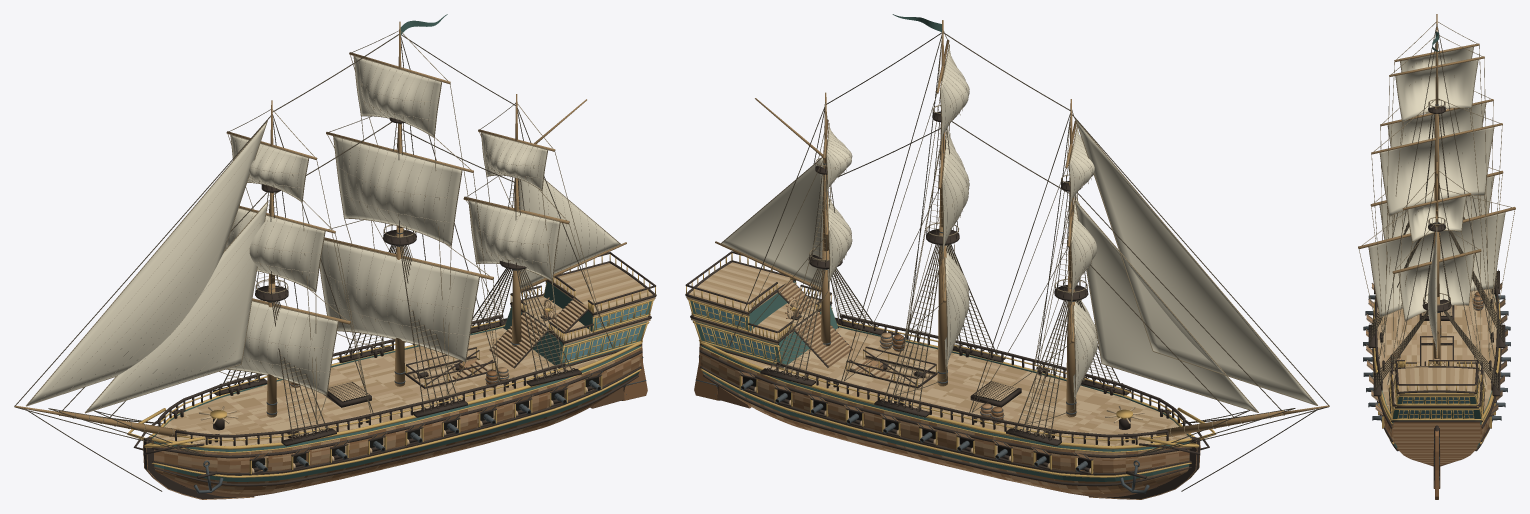
The model's file is reference_frigate.fbx.
3 renders of one model, left to right at view 1: azimuth 30°, elevation 25°; view 2: azimuth 150°, elevation 25°; view 3: azimuth 270°, elevation 25°, orthographic. The views are drawn at different scales.
Parts seen in each view (by area): view 1: Frigate_Flying_Jib, Frigate_Hull_Planking, Frigate_Main_Deck_Planks, Frigate_Mainmast_Sail_1, Frigate_Inner_Jib, Frigate_Mainmast_Sail_2, Frigate_Wales_And_Gold_Trim, Frigate_Foremast_Sail_1, Frigate_Bulwarks_And_Railings, Frigate_Mizzenmast_Sail_1, Frigate_Mainmast_Sail_3, Frigate_Mainmast_Shrouds_Ratlines_And_Running_Rig (+29 smaller); view 2: Frigate_Flying_Jib, Frigate_Main_Deck_Planks, Frigate_Hull_Planking, Frigate_Inner_Jib, Frigate_Wales_And_Gold_Trim, Frigate_Mizzen_Gaff_Sail, Frigate_Bulwarks_And_Railings, Frigate_Mainmast_Shrouds_Ratlines_And_Running_Rig, Frigate_Foremast_Shrouds_Ratlines_And_Running_Rig, Frigate_Mizzenmast_Shrouds_Ratlines_And_Running_Rig, Frigate_Stepped_Cambered_Quarterdecks, Frigate_Stern_Gallery_Windows_And_Mouldings (+22 smaller); view 3: Frigate_Mainmast_Sail_2, Frigate_Mainmast_Sail_1, Frigate_Main_Deck_Planks, Frigate_Mainmast_Shrouds_Ratlines_And_Running_Rig, Frigate_Stern_Gallery_Windows_And_Mouldings, Frigate_Mainmast_Sail_3, Frigate_Mizzenmast_Shrouds_Ratlines_And_Running_Rig, Frigate_Stern_Transom_Planking, Frigate_Mizzenmast_Sail_1, Frigate_Mainmast_Spars_And_Tops, Frigate_Foremast_Sail_2, Frigate_Stepped_Cambered_Quarterdecks (+23 smaller).
Part boxes in pixels (<box>): Frigate_Flying_Jib: <box>27,123,266,405</box>; Frigate_Hull_Planking: <box>152,326,641,497</box>; Frigate_Main_Deck_Planks: <box>153,328,614,446</box>; Frigate_Mainmast_Sail_1: <box>320,240,478,361</box>; Frigate_Inner_Jib: <box>86,202,267,412</box>; Frigate_Mainmast_Sail_2: <box>334,136,461,245</box>; Frigate_Wales_And_Gold_Trim: <box>149,325,642,486</box>; Frigate_Foremast_Sail_1: <box>228,301,337,394</box>; Frigate_Bulwarks_And_Railings: <box>158,252,655,445</box>; Frigate_Mizzenmast_Sail_1: <box>469,201,559,280</box>; Frigate_Mainmast_Sail_3: <box>354,56,441,136</box>; Frigate_Mainmast_Shrouds_Ratlines_And_Running_Rig: <box>327,30,501,412</box>; Frigate_Flying_Jib: <box>1077,122,1316,404</box>; Frigate_Main_Deck_Planks: <box>728,327,1190,446</box>; Frigate_Hull_Planking: <box>700,325,1190,497</box>; Frigate_Inner_Jib: <box>1076,202,1257,411</box>; Frigate_Wales_And_Gold_Trim: <box>699,324,1194,486</box>; Frigate_Mizzen_Gaff_Sail: <box>722,158,822,286</box>; Frigate_Bulwarks_And_Railings: <box>685,251,1185,445</box>; Frigate_Mainmast_Shrouds_Ratlines_And_Running_Rig: <box>841,29,998,412</box>; Frigate_Foremast_Shrouds_Ratlines_And_Running_Rig: <box>968,108,1122,441</box>; Frigate_Mizzenmast_Shrouds_Ratlines_And_Running_Rig: <box>729,102,878,381</box>; Frigate_Stepped_Cambered_Quarterdecks: <box>686,262,821,344</box>; Frigate_Stern_Gallery_Windows_And_Mouldings: <box>685,260,838,368</box>; Frigate_Mainmast_Sail_2: <box>1380,127,1493,215</box>; Frigate_Mainmast_Sail_1: <box>1369,212,1504,317</box>; Frigate_Main_Deck_Planks: <box>1377,289,1496,411</box>; Frigate_Mainmast_Shrouds_Ratlines_And_Running_Rig: <box>1358,35,1514,358</box>; Frigate_Stern_Gallery_Windows_And_Mouldings: <box>1388,366,1485,422</box>; Frigate_Mainmast_Sail_3: <box>1396,60,1477,121</box>; Frigate_Mizzenmast_Shrouds_Ratlines_And_Running_Rig: <box>1374,170,1499,402</box>; Frigate_Stern_Transom_Planking: <box>1391,422,1482,465</box>; Frigate_Mizzenmast_Sail_1: <box>1399,253,1474,320</box>; Frigate_Mainmast_Spars_And_Tops: <box>1358,27,1515,347</box>; Frigate_Foremast_Sail_2: <box>1388,103,1485,147</box>; Frigate_Stepped_Cambered_Quarterdecks: <box>1393,367,1480,407</box>.
Size of the model in its own units: 5582 by 3710 by 1411.
